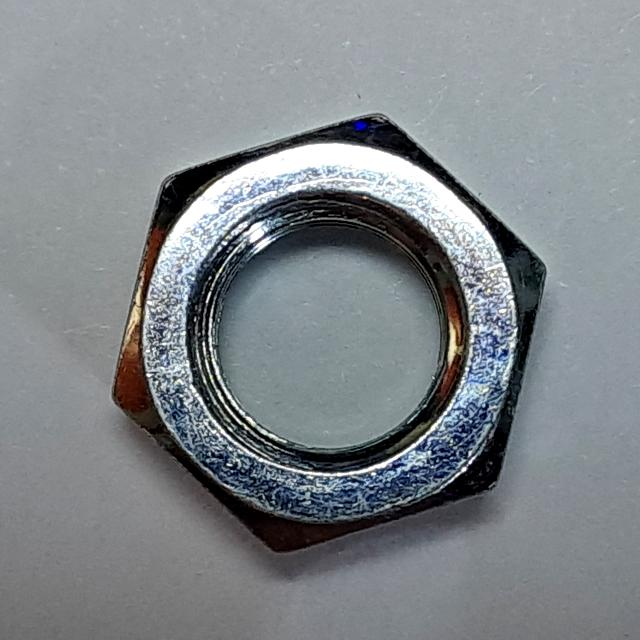Excellent: (100, 96, 566, 573)
